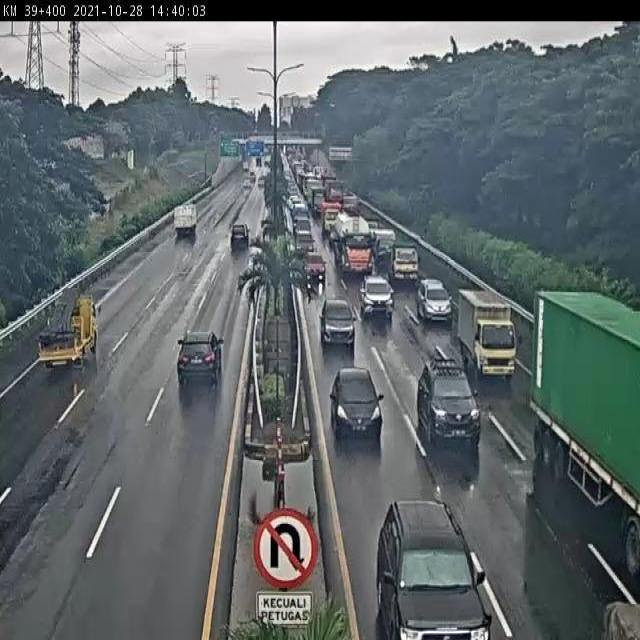big truck: (329, 209, 372, 276)
car: (416, 356, 485, 441), (330, 366, 382, 434), (179, 327, 223, 382), (318, 292, 356, 345), (415, 276, 454, 321), (358, 272, 395, 319), (371, 228, 396, 263), (302, 248, 326, 279), (229, 222, 251, 250)
small truck: (453, 288, 519, 383), (36, 293, 99, 368), (387, 242, 418, 282), (171, 201, 198, 240)
